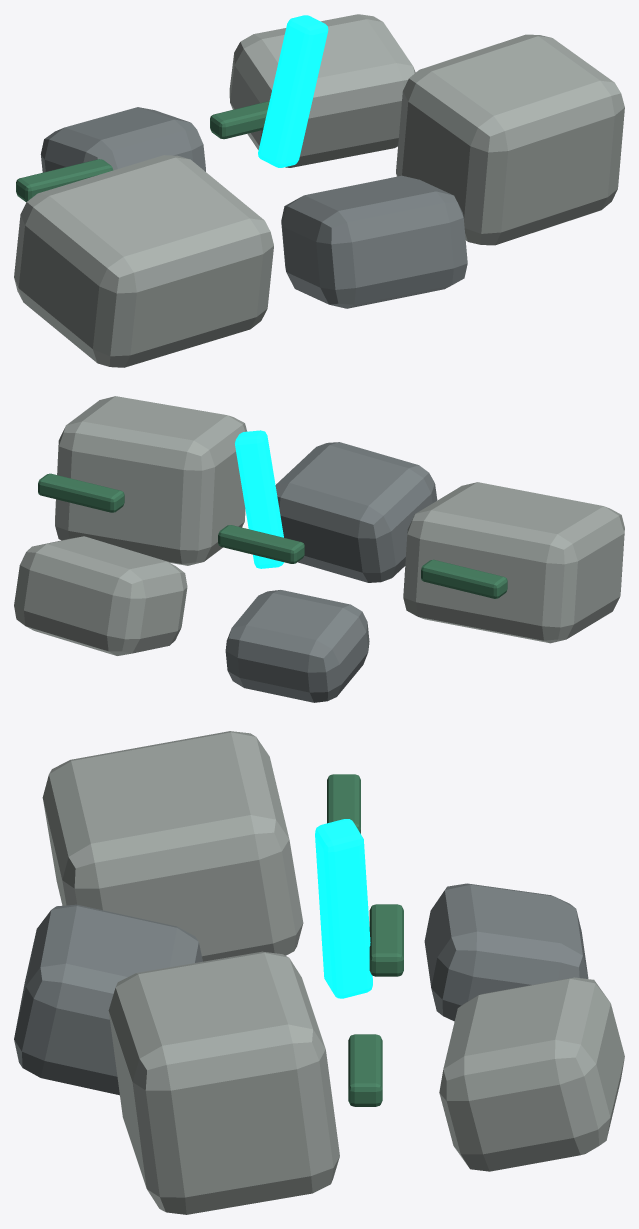
Rendered from Rubble-Patch.glb.
The picture shows the model from 3 angles, top to bottom: view 1: azimuth 30°, elevation 25°; view 2: azimuth 150°, elevation 25°; view 3: azimuth 270°, elevation 25°; orthographic projection. The views are drawn at different scales.
Parts seen in each view (by area): view 1: Rubble_Stone_0, Rubble_Stone_2, Rubble_Stone_1, Rubble_Stone_4, Rubble_Stone_3, Rubble_CyanShard, Rubble_Moss_0, Rubble_Moss_1; view 2: Rubble_Stone_0, Rubble_Stone_2, Rubble_Stone_4, Rubble_Stone_1, Rubble_Stone_3, Rubble_CyanShard, Rubble_Moss_0, Rubble_Moss_2, Rubble_Moss_1; view 3: Rubble_Stone_2, Rubble_Stone_0, Rubble_Stone_4, Rubble_Stone_1, Rubble_Stone_3, Rubble_CyanShard, Rubble_Moss_2, Rubble_Moss_1, Rubble_Moss_0.
Part boxes in pixels (x1,y1,x2,y2): Rubble_Stone_0: (14, 155, 273, 367); Rubble_Stone_2: (396, 34, 624, 245); Rubble_Stone_1: (281, 175, 467, 308); Rubble_Stone_4: (229, 14, 415, 167); Rubble_Stone_3: (40, 107, 205, 172); Rubble_CyanShard: (258, 15, 328, 167); Rubble_Moss_0: (16, 159, 113, 202); Rubble_Moss_1: (210, 101, 269, 139); Rubble_Stone_0: (403, 482, 624, 643); Rubble_Stone_2: (55, 396, 247, 565); Rubble_Stone_4: (14, 536, 187, 655); Rubble_Stone_1: (275, 442, 437, 582); Rubble_Stone_3: (225, 590, 369, 702); Rubble_CyanShard: (235, 430, 283, 568); Rubble_Moss_0: (421, 559, 507, 598); Rubble_Moss_2: (38, 473, 124, 512); Rubble_Moss_1: (218, 525, 304, 563); Rubble_Stone_2: (108, 951, 339, 1214); Rubble_Stone_0: (42, 731, 303, 961); Rubble_Stone_4: (439, 977, 624, 1171); Rubble_Stone_1: (14, 904, 202, 1095); Rubble_Stone_3: (424, 883, 588, 1021); Rubble_CyanShard: (315, 819, 372, 998); Rubble_Moss_2: (348, 1034, 382, 1106); Rubble_Moss_1: (369, 904, 403, 976); Rubble_Moss_0: (327, 774, 360, 833).
Size of the model in its own units: 1.95 by 0.6698 by 1.43.
